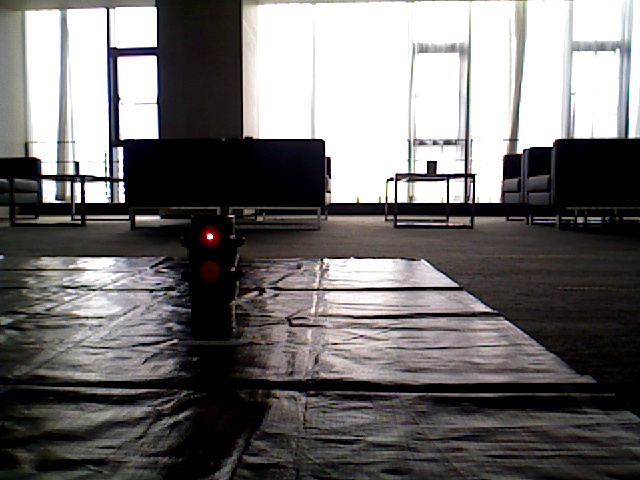red: (190, 207, 229, 329)
